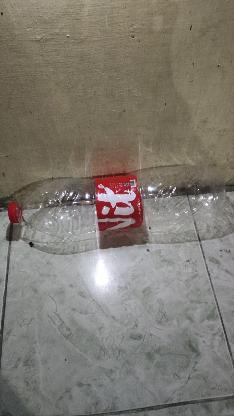Plastic Bottle: (1, 165, 233, 255)
